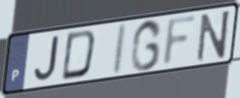D: (59, 28, 98, 83)
F: (160, 12, 201, 69)
G: (129, 17, 164, 73)
I: (110, 21, 129, 78)
J: (32, 34, 61, 84)
N: (195, 9, 232, 65)
